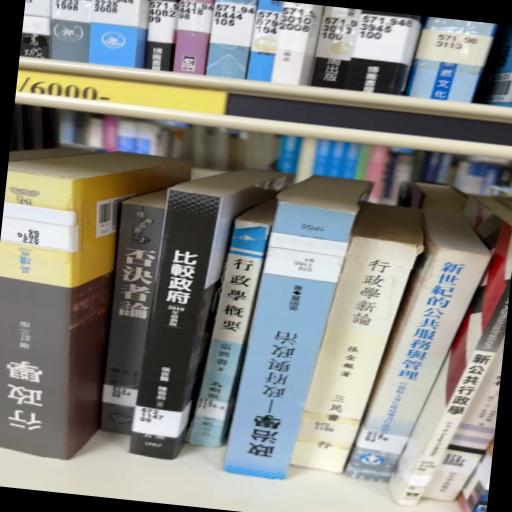reverse: (1, 153, 190, 460), (225, 177, 372, 480)
